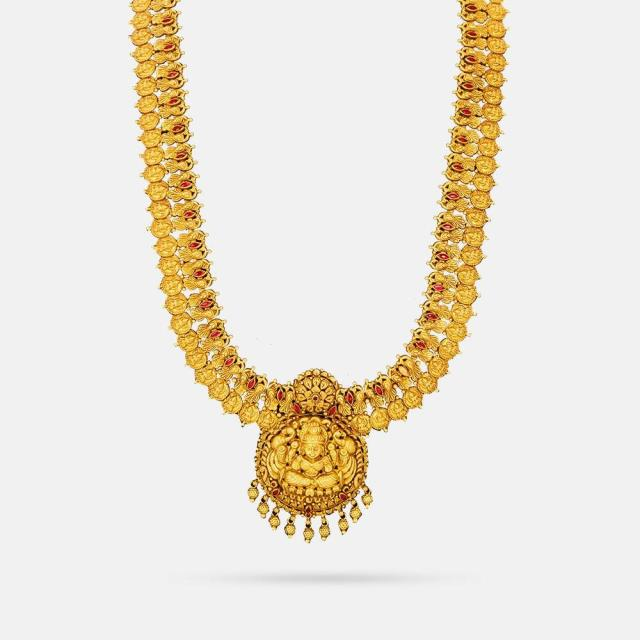missing gem: (399, 366, 410, 377), (313, 369, 319, 375)
